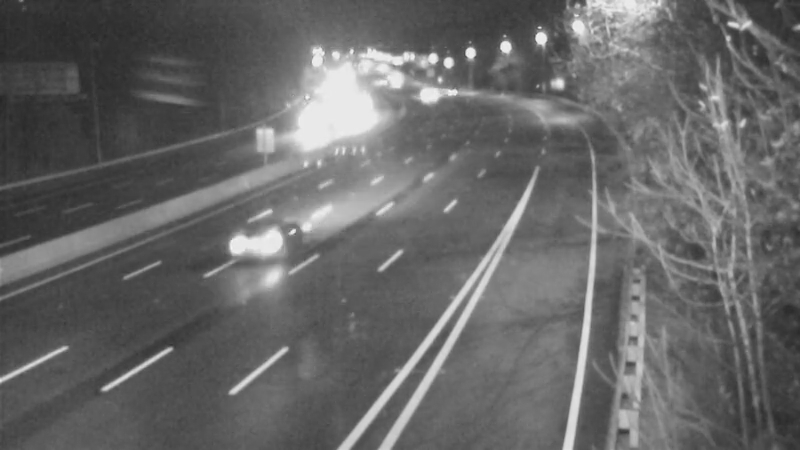vehicle: (223, 199, 303, 279), (424, 68, 474, 118), (401, 68, 451, 118), (287, 108, 337, 158)
